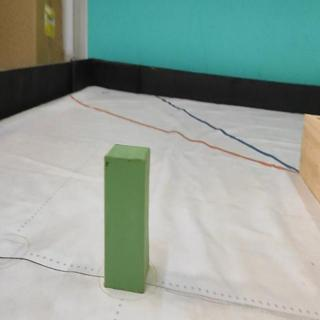greenbox: (103, 143, 150, 296)
